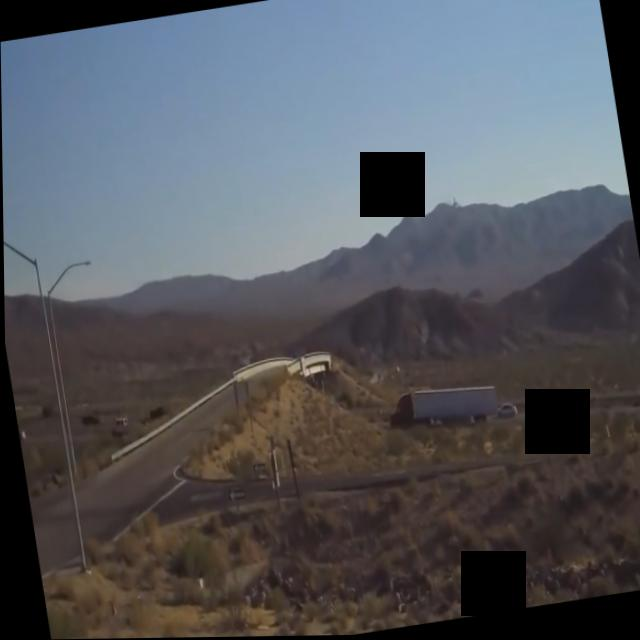Pole: (3, 220, 88, 587), (39, 254, 121, 480)
